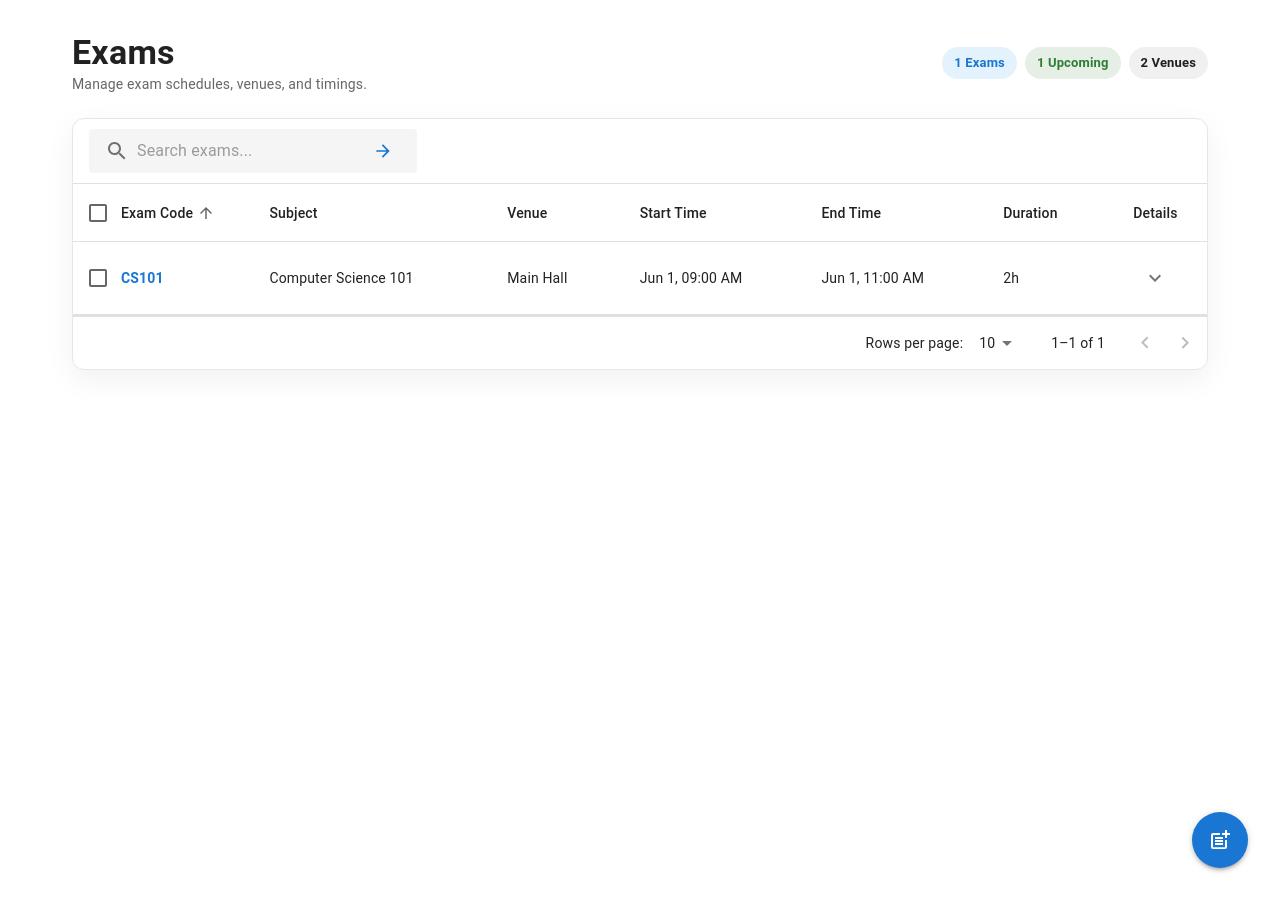
Test: AdminExams › expands a row to show other venues
Expected: the link "CS101" is shown, [121, 270, 164, 286]
Step 1. Click the button named "expand exam venues" → (1155, 278), box [1135, 258, 1175, 298]
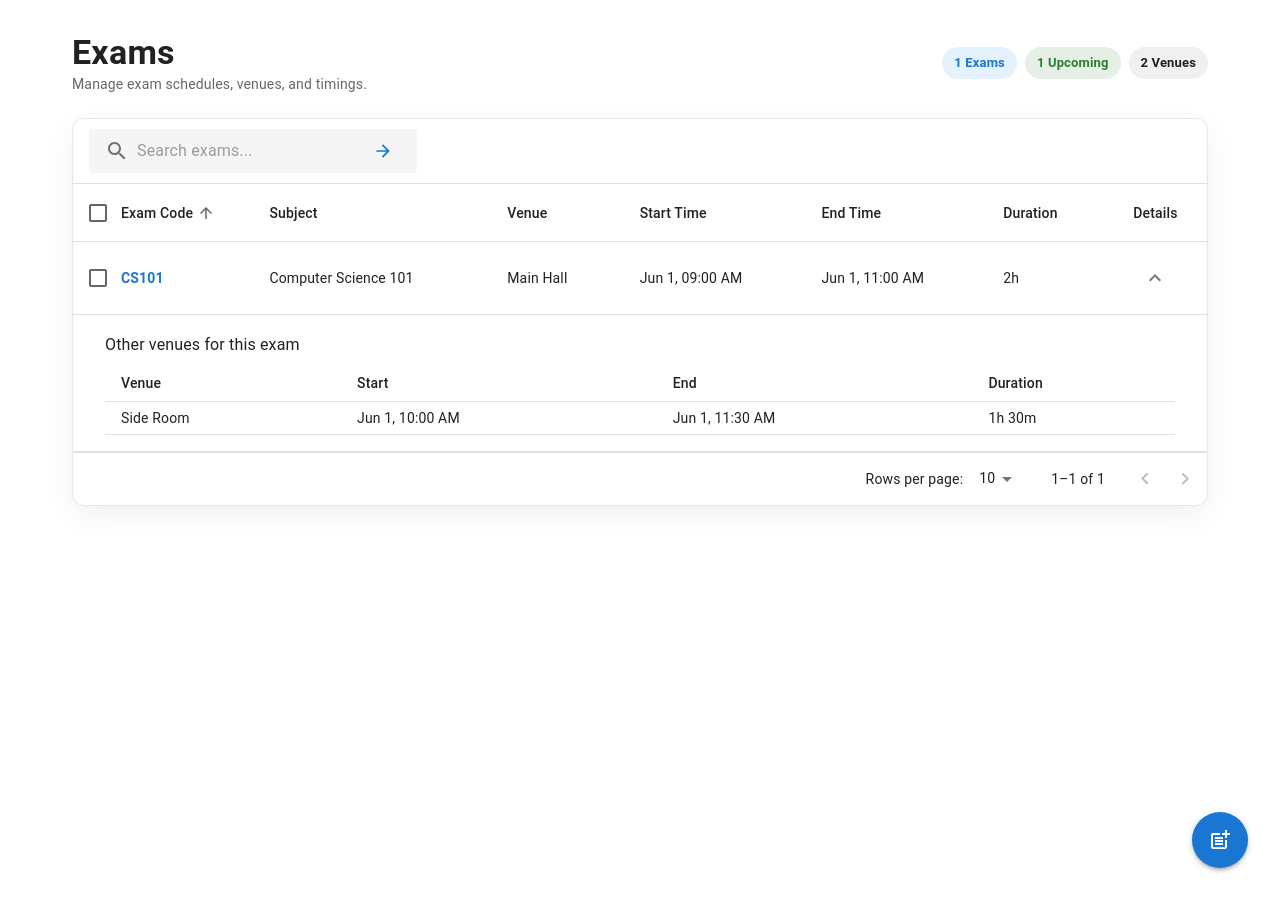
Result: the heading "Other venues for this exam" is shown at [105, 335, 300, 354]
Result: the text "Side Room" is shown at [105, 401, 341, 434]
